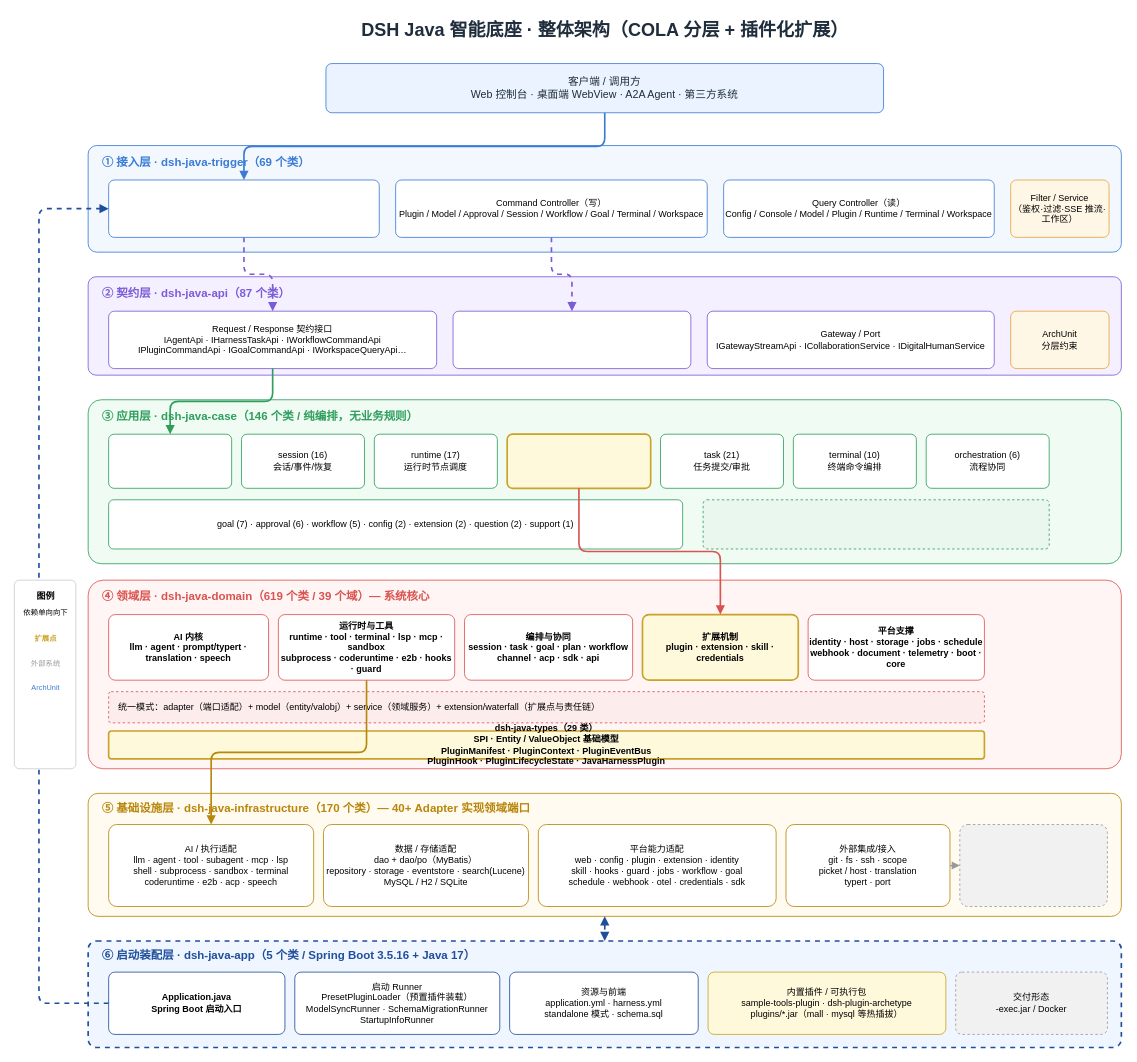
This 1137x1062 diagram has some shape labels left out. The shapes that lost their labels are listed below. From the top down, each one's box as (x1, y1, x2, y2) in pixels, then its label:
(108, 179, 379, 237): HTTP Controller GatewayStream / Agent / A2A / Collaboration / HarnessTask
(452, 310, 691, 369): DTO / Response / Stream 统一出入参、SSE 事件、分页与错误码
(108, 433, 232, 488): agent (12) 智能体用例编排
(506, 433, 651, 489): plugin (38) 安装/分析/生命周期/运行
(702, 499, 1049, 549): 模式：每个用例包 = Command/Query + factory + node 通过 api 接口与 domain 领域服务协作
(959, 824, 1107, 907): 外部系统 LLM 服务 · MySQL 本地 Shell/SSH MCP · Git · OTel
